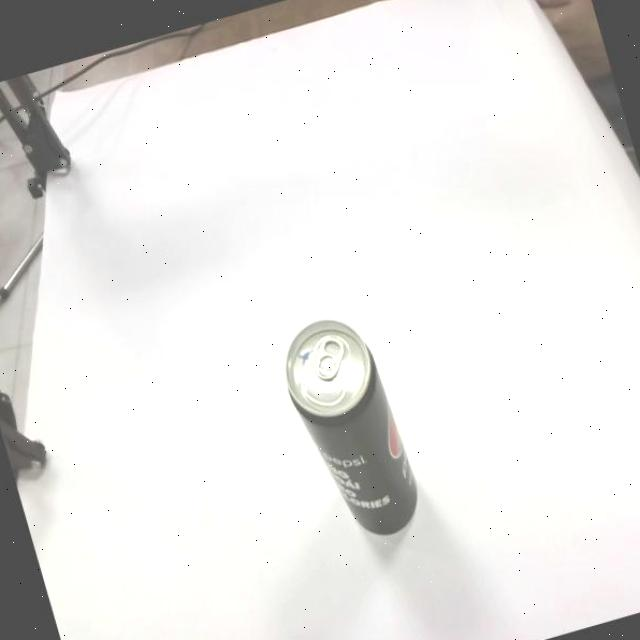debris: (268, 304, 428, 550)
